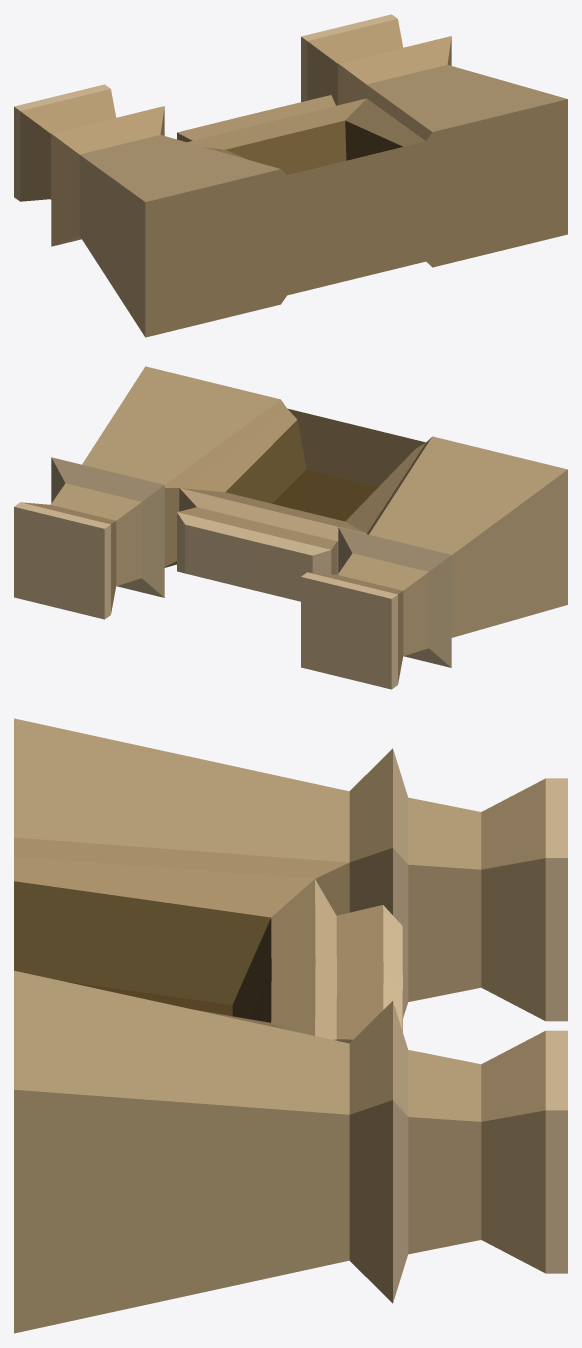
File: desert_castle.fbx
3 renders of one model, top to bottom at view 1: azimuth 30°, elevation 25°; view 2: azimuth 150°, elevation 25°; view 3: azimuth 270°, elevation 25°, orthographic. The views are drawn at different scales.
Parts seen in each view (by area): view 1: desert_castle; view 2: desert_castle; view 3: desert_castle.
Boxes of the visible parts, box(x1,y1,x2,y2) form: desert_castle: box(14, 14, 567, 337); desert_castle: box(14, 366, 567, 689); desert_castle: box(14, 718, 567, 1333).
Bounding box in the file's own units: 542 × 166 × 342.
